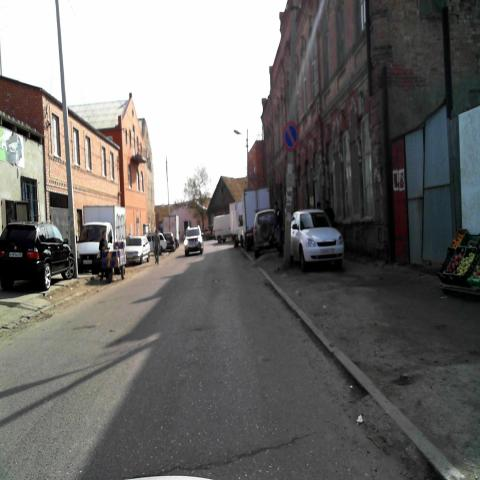3_28: (284, 123, 298, 149)
